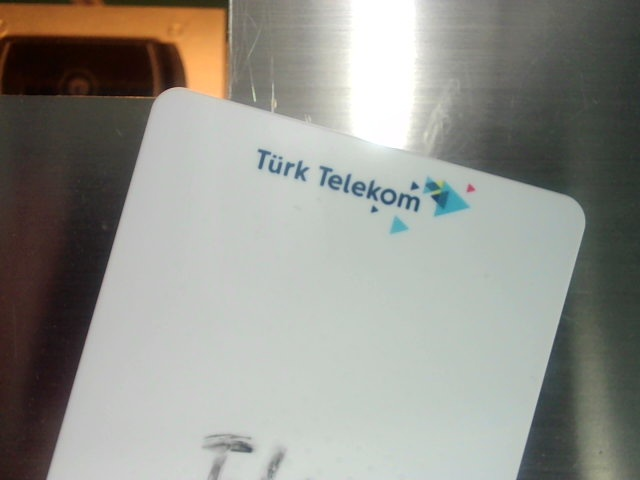AQ_TURKTelekom: (252, 136, 483, 246)
